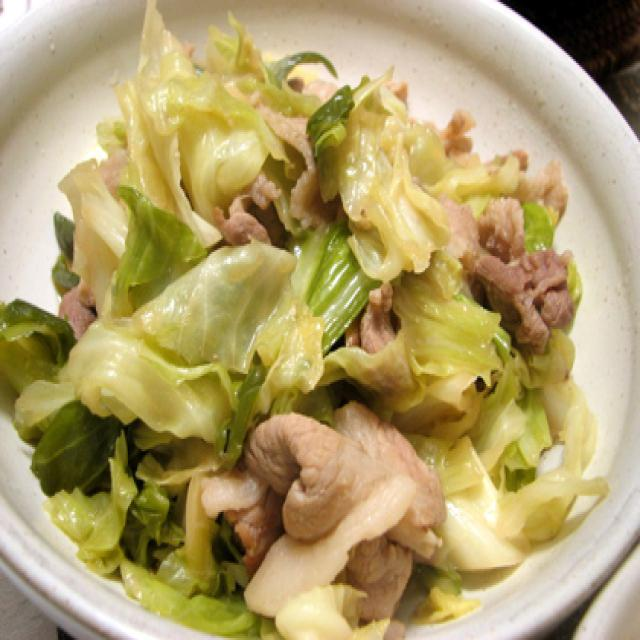蔬菜料理: (0, 6, 611, 640)
